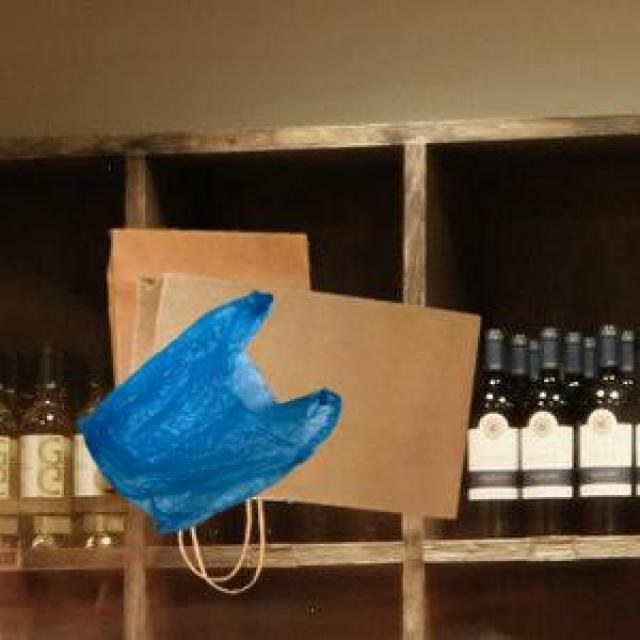paper: (127, 269, 476, 514), (105, 226, 304, 576)
